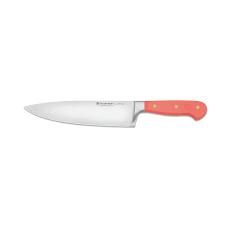Knife: (23, 99, 207, 128)
